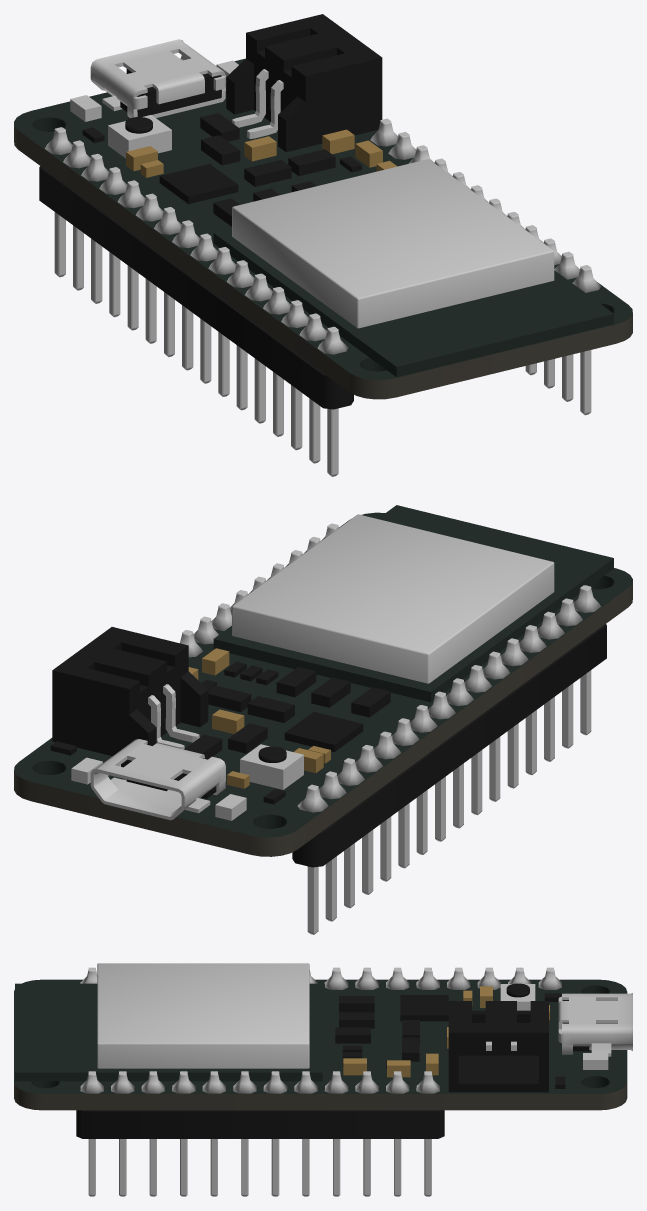
Rendered from esp32.fbx.
3 views of the same model, one above another, from view 1: azimuth 30°, elevation 25°; view 2: azimuth 150°, elevation 25°; view 3: azimuth 270°, elevation 25° (orthographic). The views are drawn at different scales.
Visible parts, largest first — view 1: metal-material.008; view 2: metal-material.008; view 3: metal-material.008.
Boxes of the visible parts, left/top/right/bottom form: metal-material.008: left=14, top=14, right=632, bottom=476; metal-material.008: left=14, top=505, right=632, bottom=934; metal-material.008: left=14, top=963, right=632, bottom=1196.
Size of the model in its own units: 2289 by 1534 by 5148.
